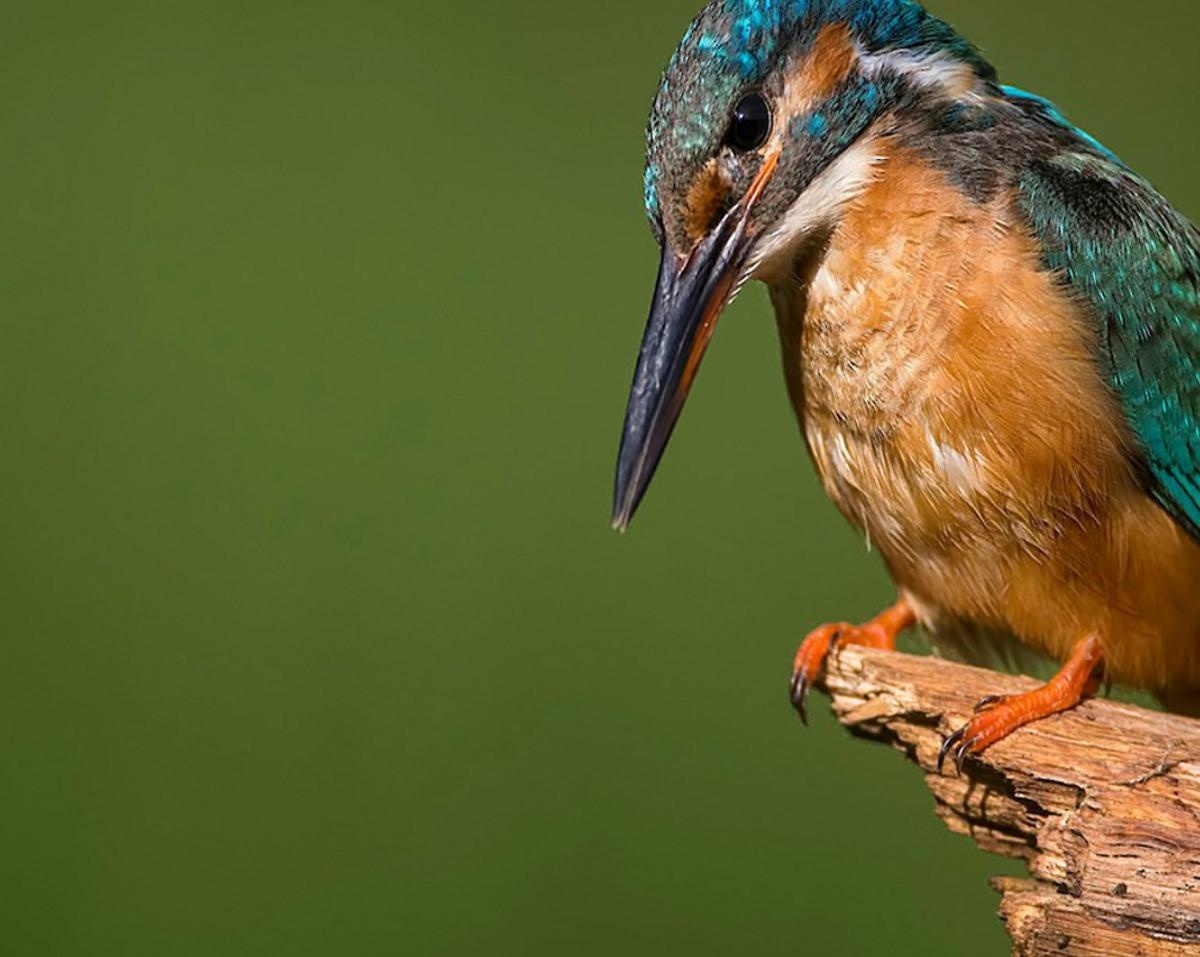kingfisher: (596, 8, 1200, 754)
